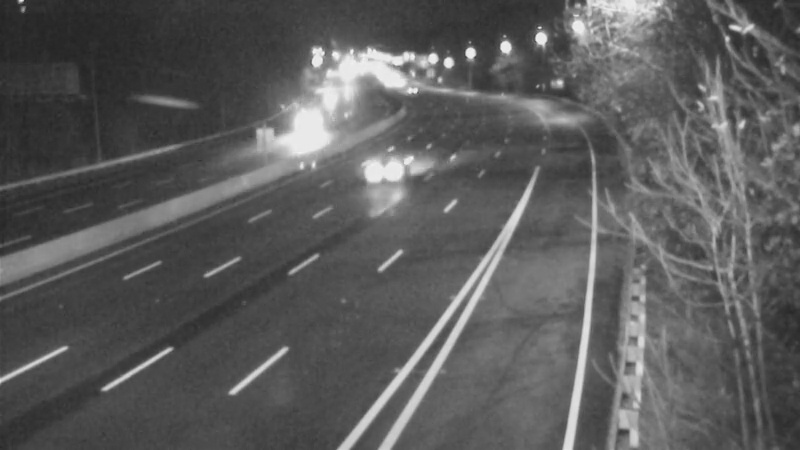vehicle: (345, 129, 425, 209), (384, 65, 434, 115), (280, 98, 330, 148)
